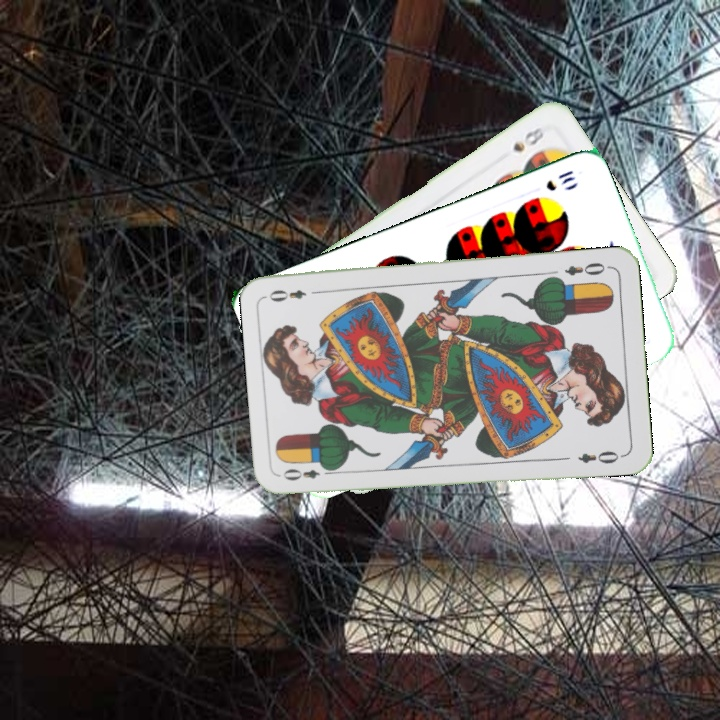EO: (279, 462, 337, 483), (561, 258, 613, 278)
S10: (542, 166, 578, 194)
S8: (508, 123, 547, 155)
